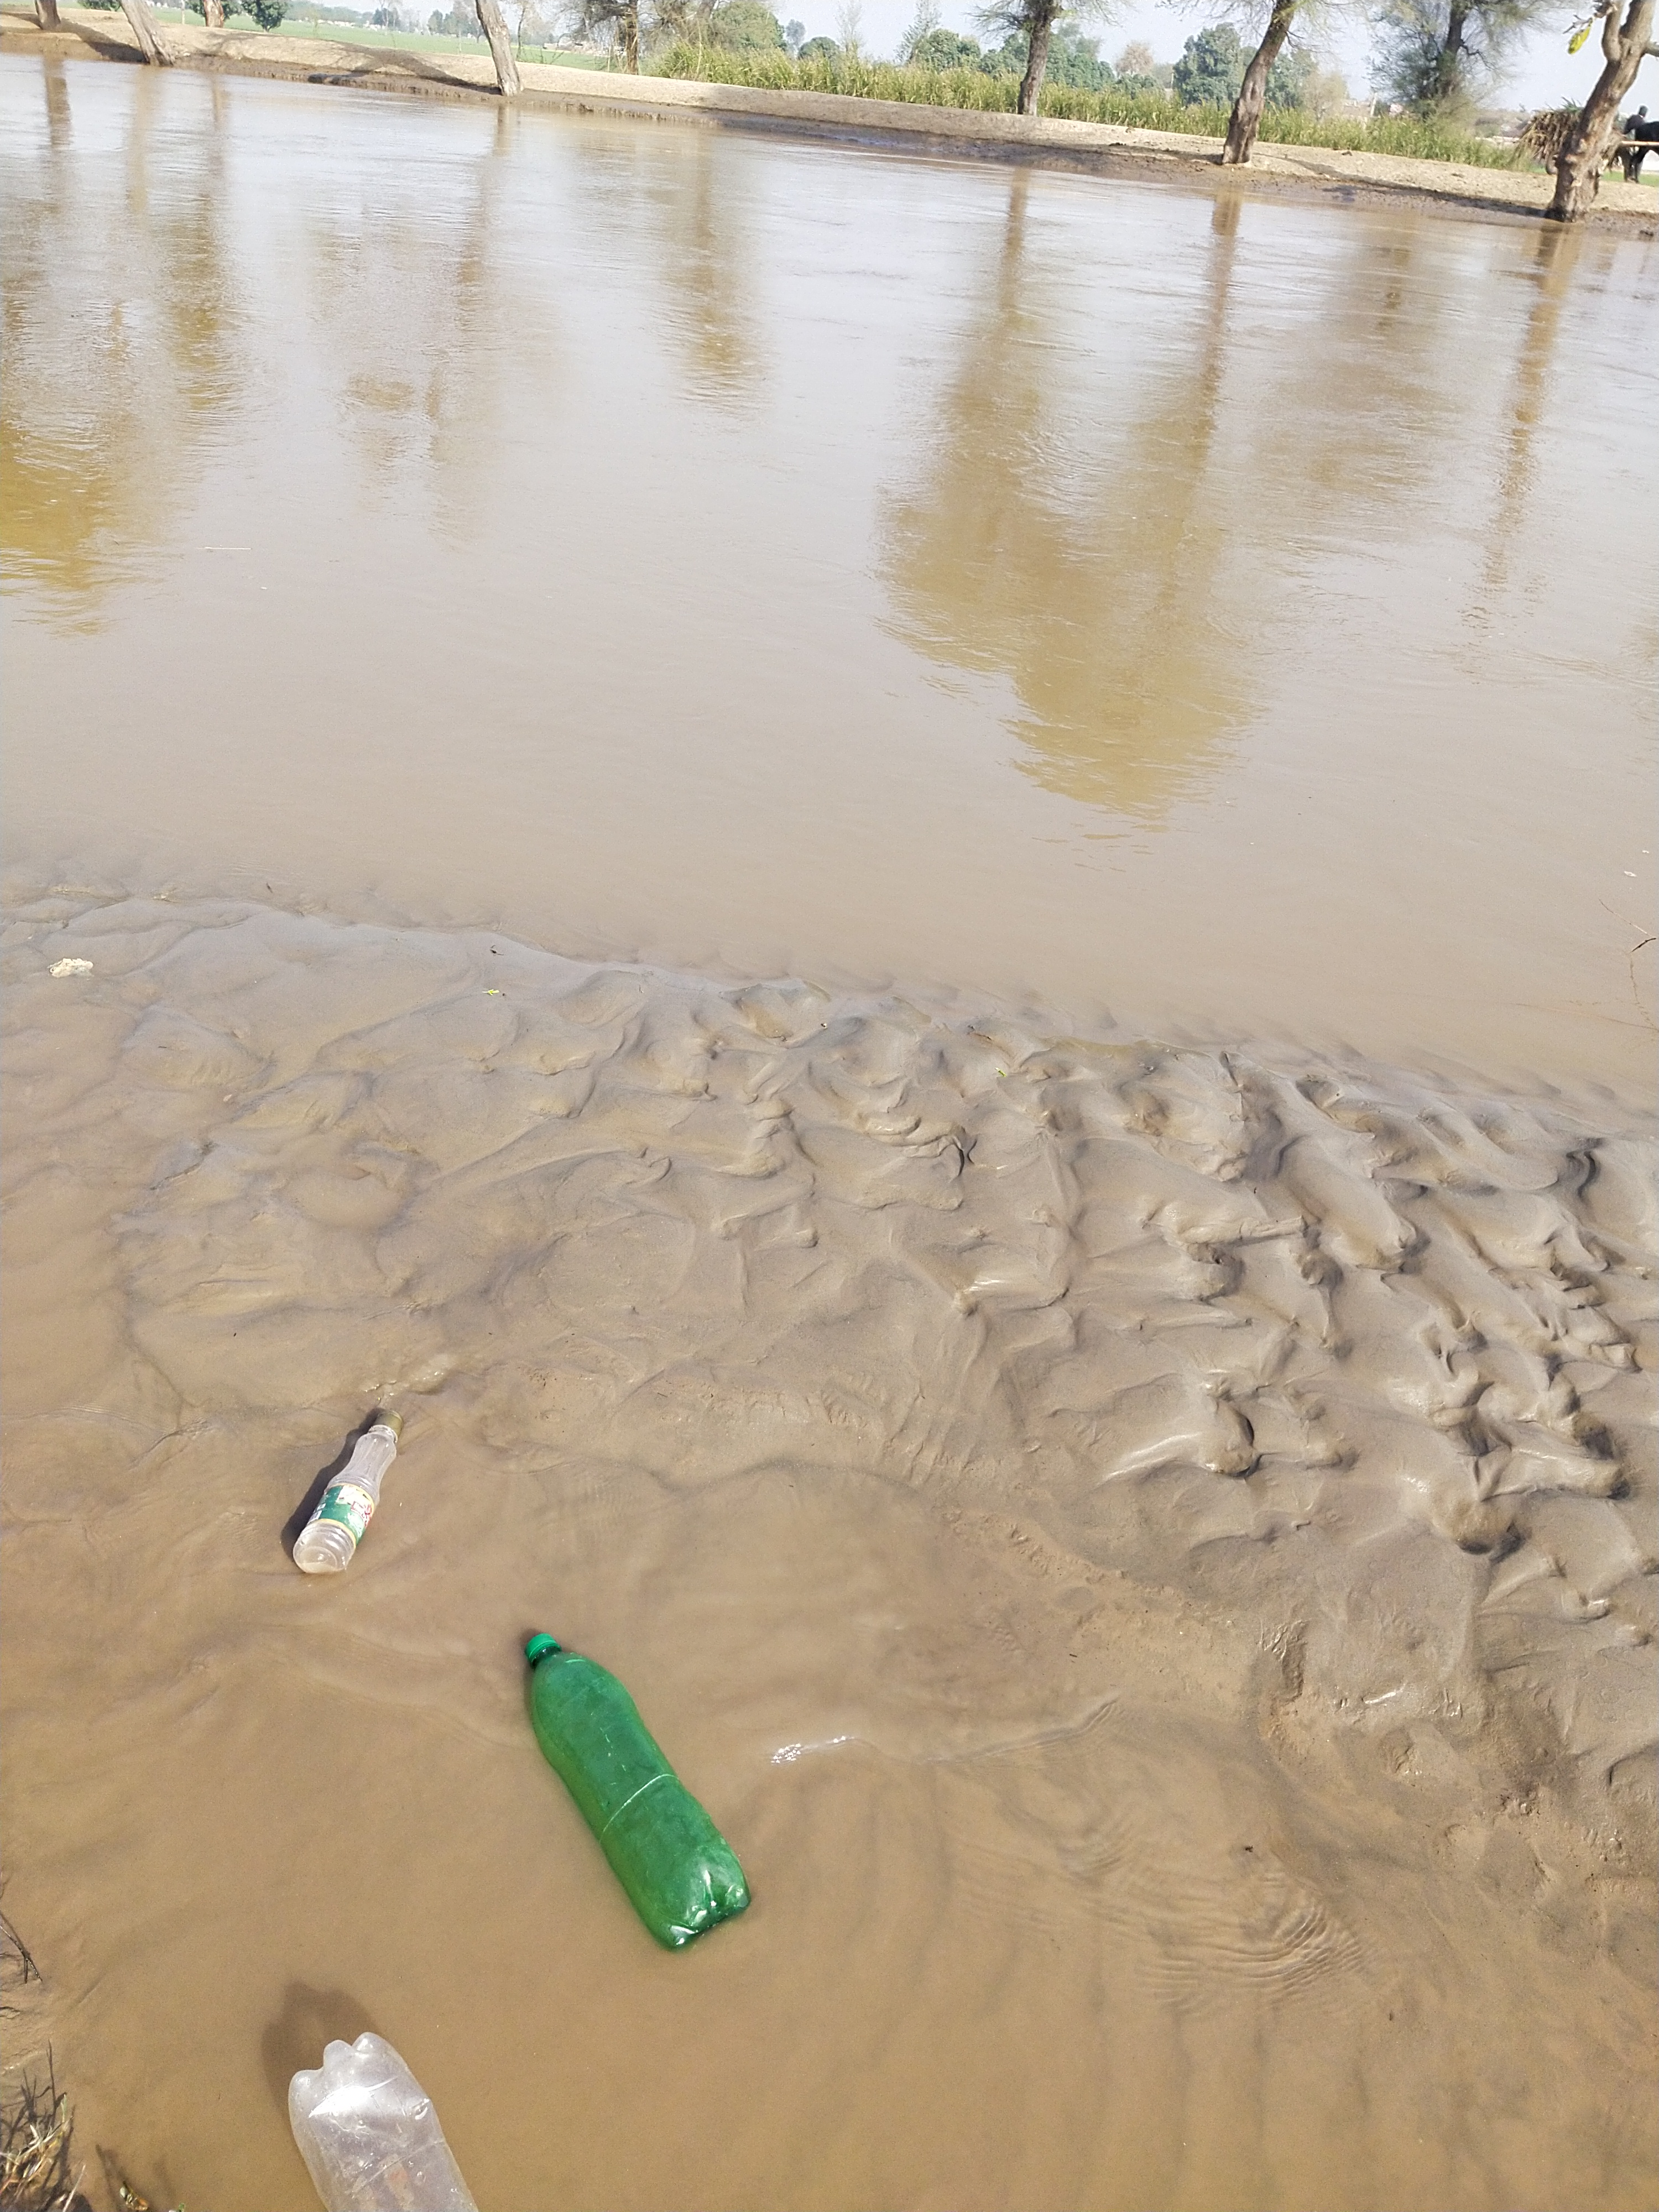Plastic Bottle: (525, 1634, 751, 1951), (288, 2031, 479, 2212), (293, 1409, 404, 1575)
